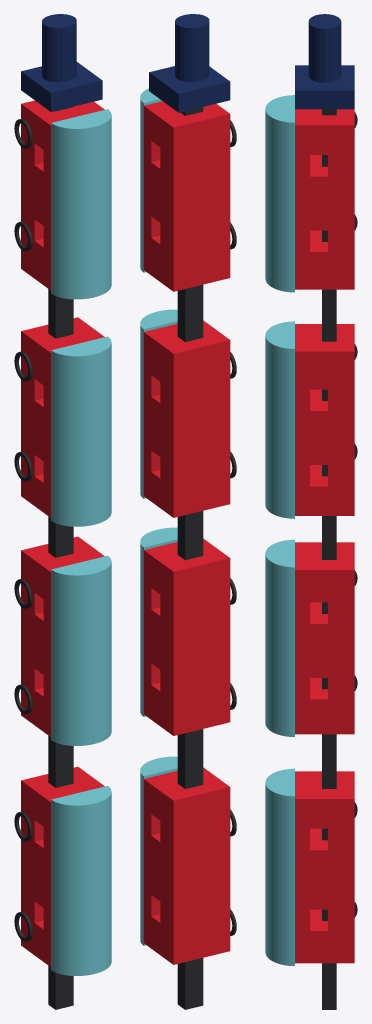
Rendered from tinker.obj.
The picture shows the model from 3 angles, left to right: view 1: azimuth 30°, elevation 25°; view 2: azimuth 210°, elevation 25°; view 3: azimuth 270°, elevation 25°; orthographic projection.
Visible parts, largest first — view 1: group_0_7720667, group_0_15277357, group_0_2829873, group_0_1650274; view 2: group_0_15277357, group_0_2829873, group_0_7720667, group_0_1650274; view 3: group_0_15277357, group_0_7720667, group_0_1650274, group_0_2829873.
Part boxes in pixels (x1,y1,x2,y2): group_0_7720667: (51,109,111,975); group_0_15277357: (21,100,104,966); group_0_2829873: (14,106,73,1009); group_0_1650274: (21,14,102,111); group_0_15277357: (144,101,230,964); group_0_2829873: (177,107,236,1009); group_0_7720667: (140,88,177,945); group_0_1650274: (149,14,230,112); group_0_15277357: (295,109,354,963); group_0_7720667: (265,95,294,965); group_0_1650274: (295,14,354,109); group_0_2829873: (322,109,357,1009).
Size of the model in its own units: 24 by 364 by 31.
